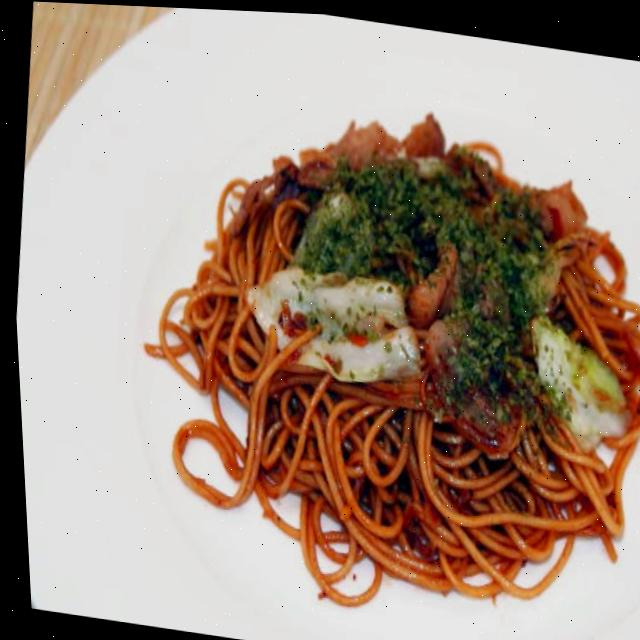面条主食: (91, 34, 640, 640)
